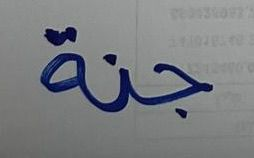jeem: (142, 55, 216, 125)
noon: (92, 41, 139, 123)
teh_marbota: (30, 16, 89, 115)
